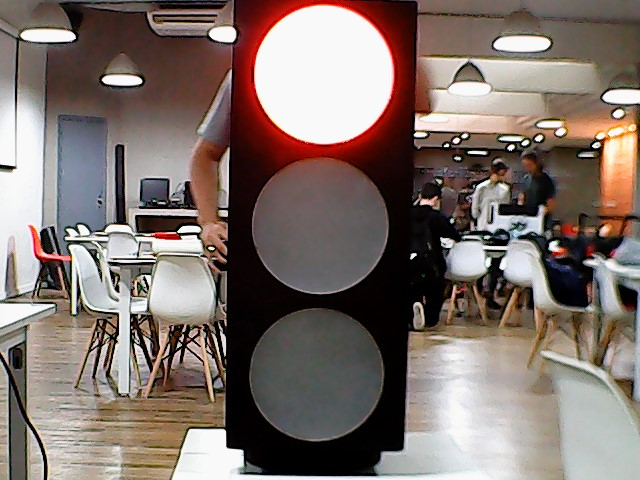vermelho: (221, 1, 422, 453)
